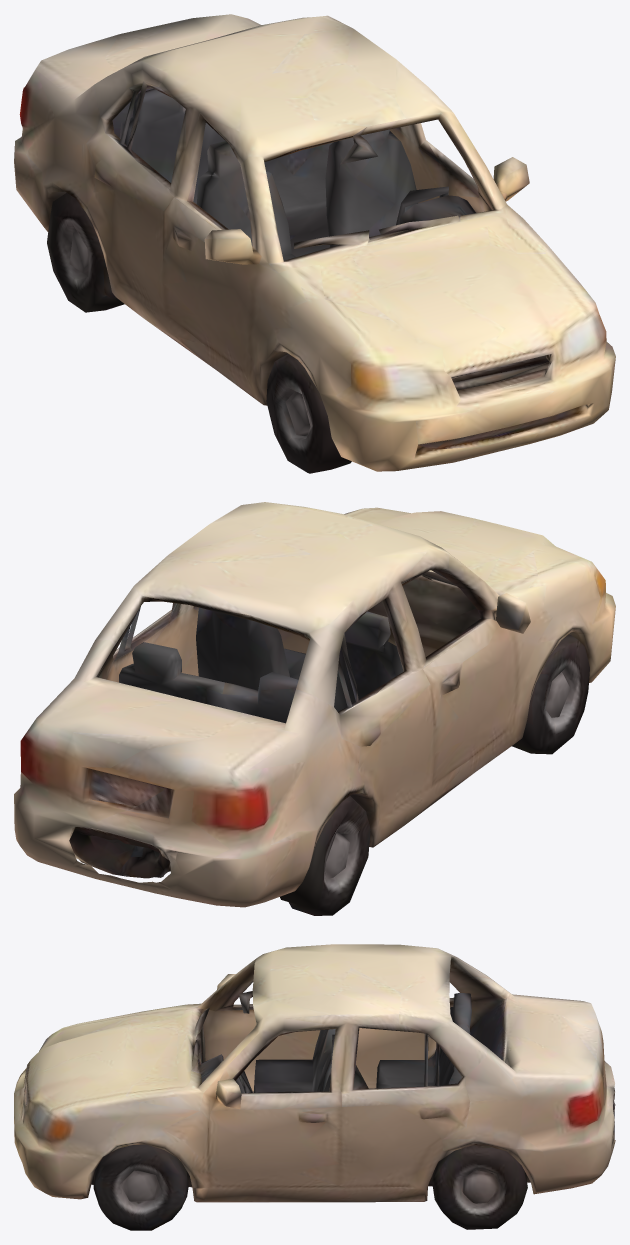
The model's file is sedan.glb.
3 views of the same model, one above another, from view 1: azimuth 30°, elevation 25°; view 2: azimuth 150°, elevation 25°; view 3: azimuth 270°, elevation 25° (orthographic). The views are drawn at different scales.
Visible parts, largest first — view 1: body; view 2: body; view 3: body.
Part boxes in pixels (x1,y1,x2,y2): body: (14,14,615,473); body: (14,502,615,915); body: (14,944,615,1230).
Size of the model in its own units: 1.78 by 1.45 by 3.8.
1 material, 1 textured.
